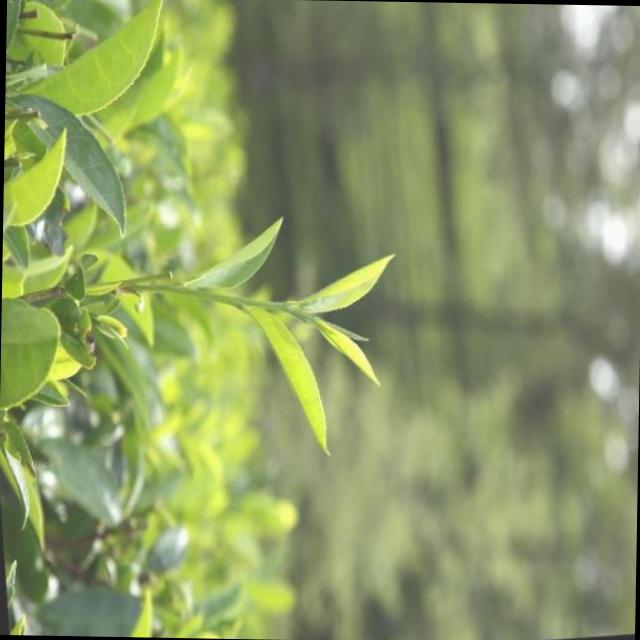Stem: (251, 300, 274, 308)
